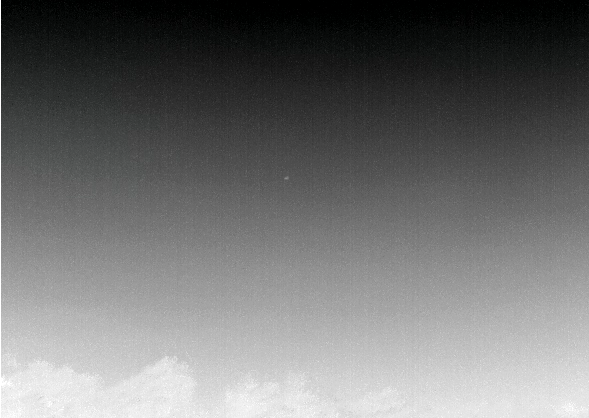dim target: (283, 175, 289, 181)
